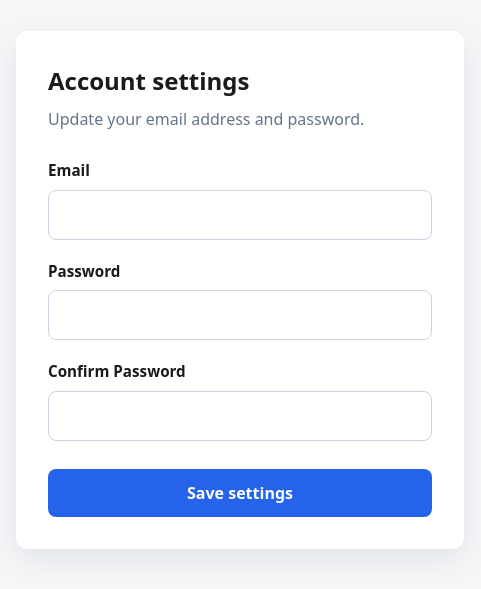
SettingsForm › shows an error for an invalid email format
This screenshot has width=481, height=589.
In the field labelled "Email": (240, 215) [48,190,432,240], type "not-an-email"
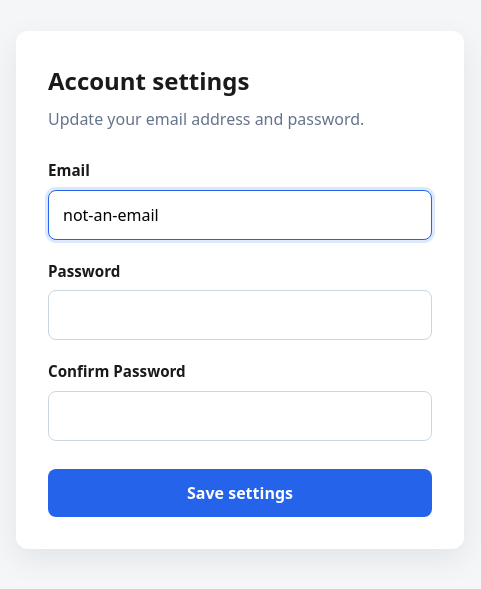
In the password field labelled "Password": (240, 315) [48,290,432,340], type "Password1"
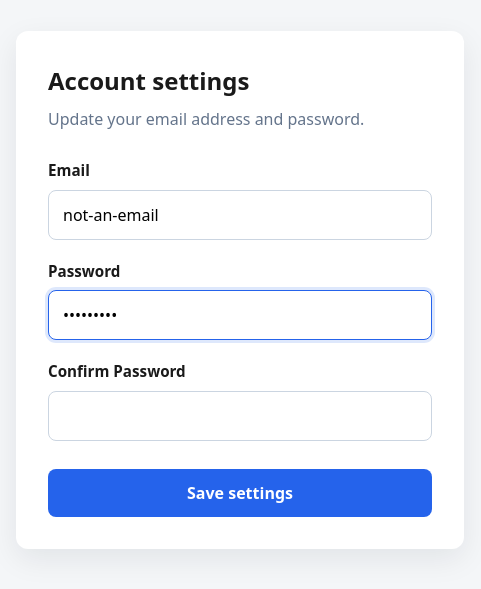
In the password field labelled "Confirm Password": (240, 416) [48,391,432,441], type "Password1"
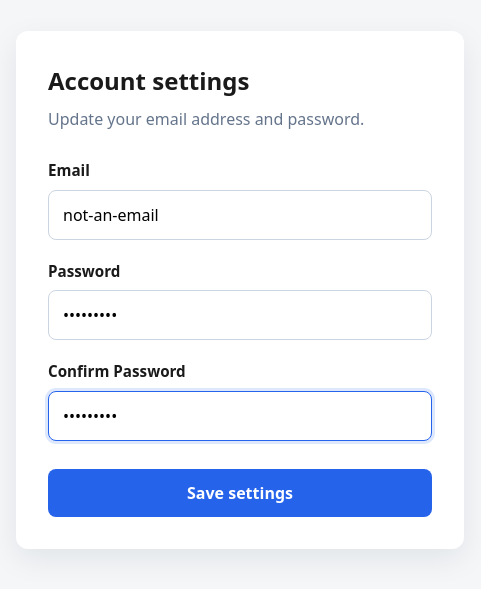
Click the button "Save settings": (240, 493) [48,469,432,517]
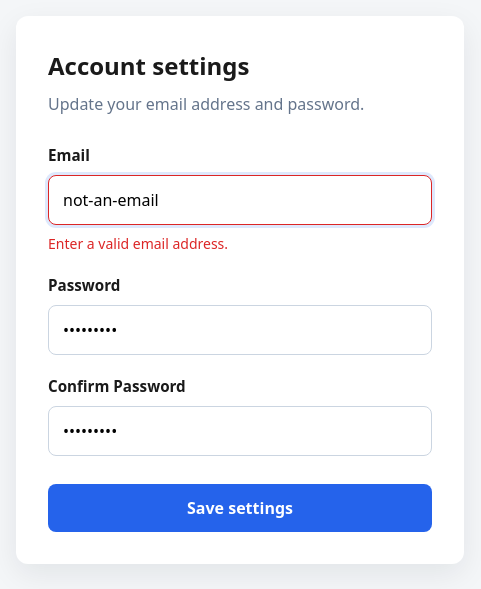
Expected: the text "Enter a valid email address." is shown, [48,234,228,253]
